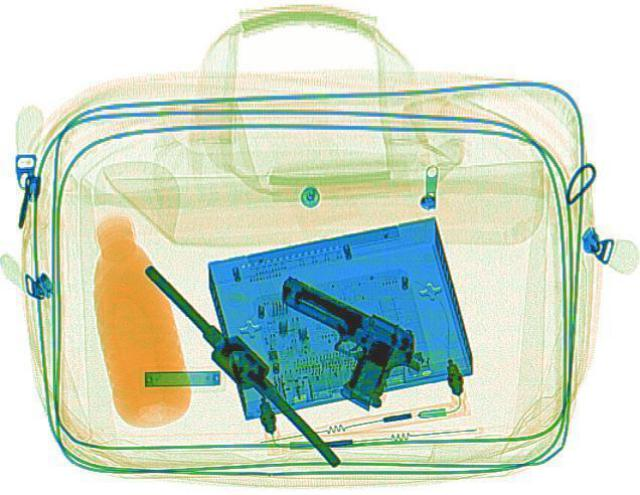Gun: (222, 271, 440, 413)
